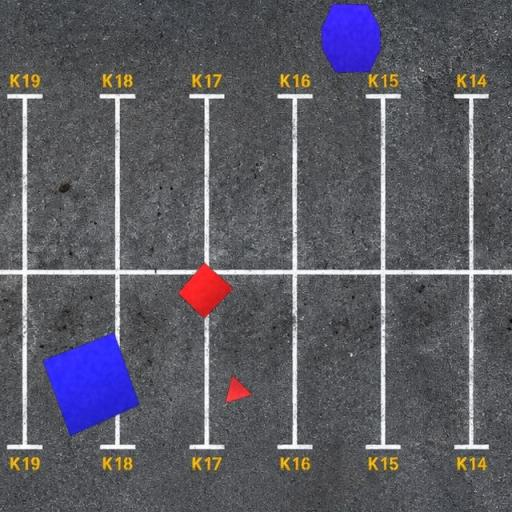BLUE_SQUARE: (42, 332, 140, 437)
RED_SQUARE: (178, 262, 234, 319)
